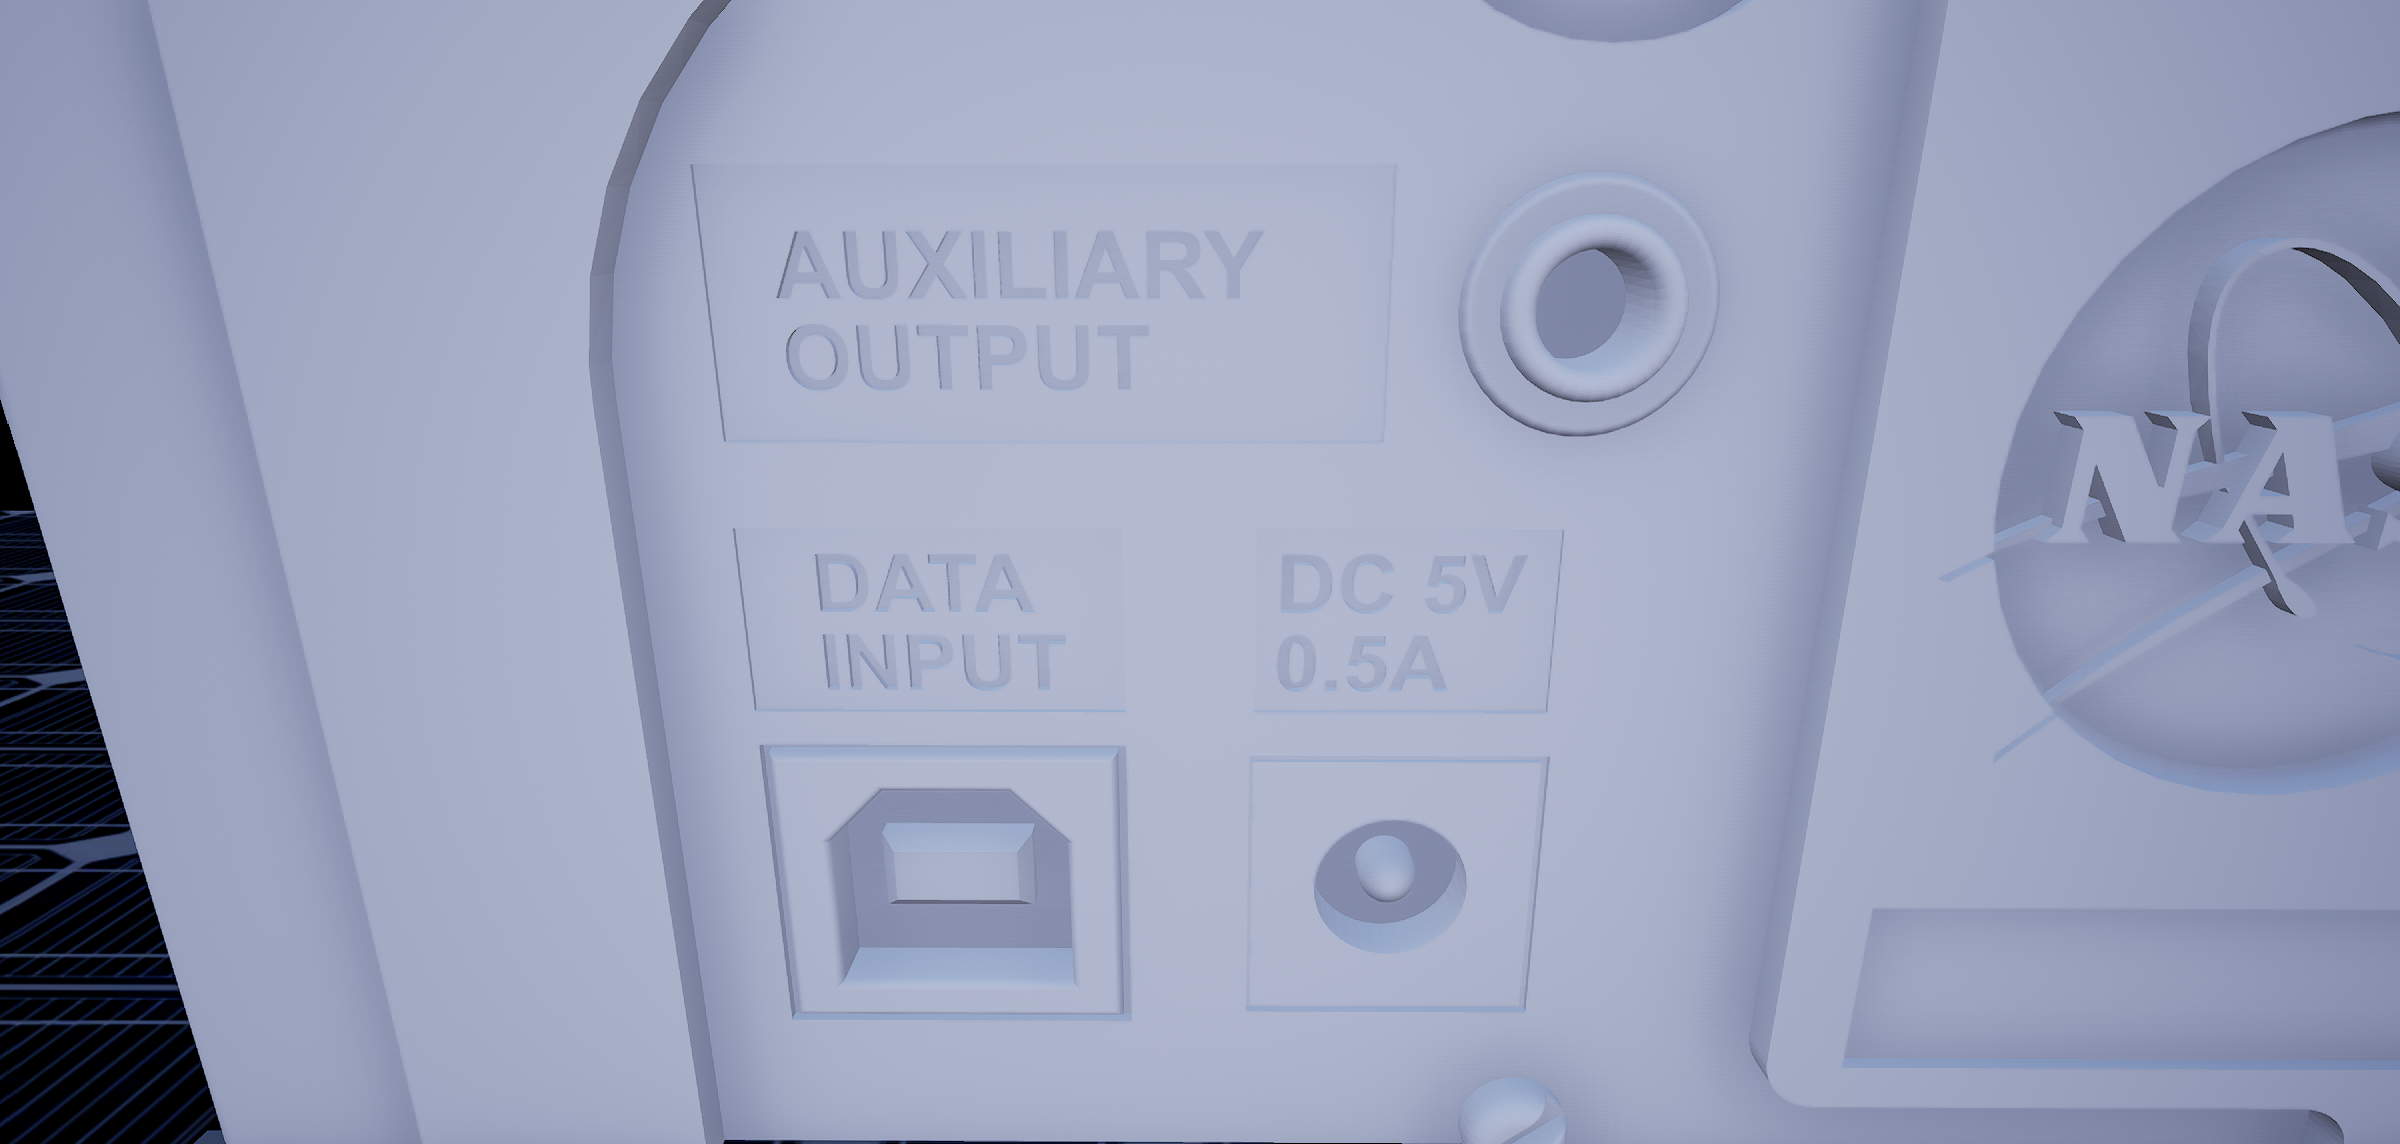aux: (1436, 149, 1745, 458)
dc: (1299, 789, 1495, 985)
usb: (814, 783, 1087, 1006)
